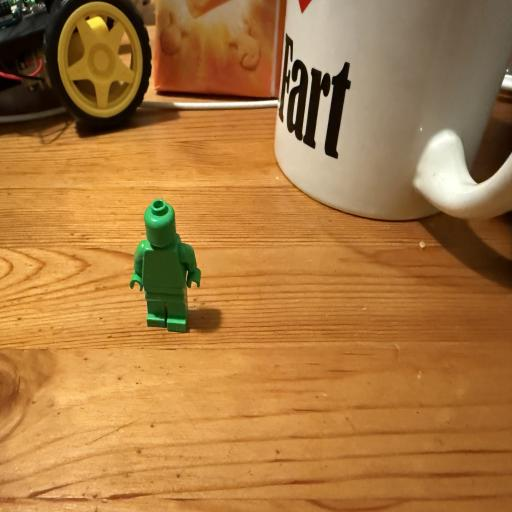Minifig: (130, 199, 201, 332)
